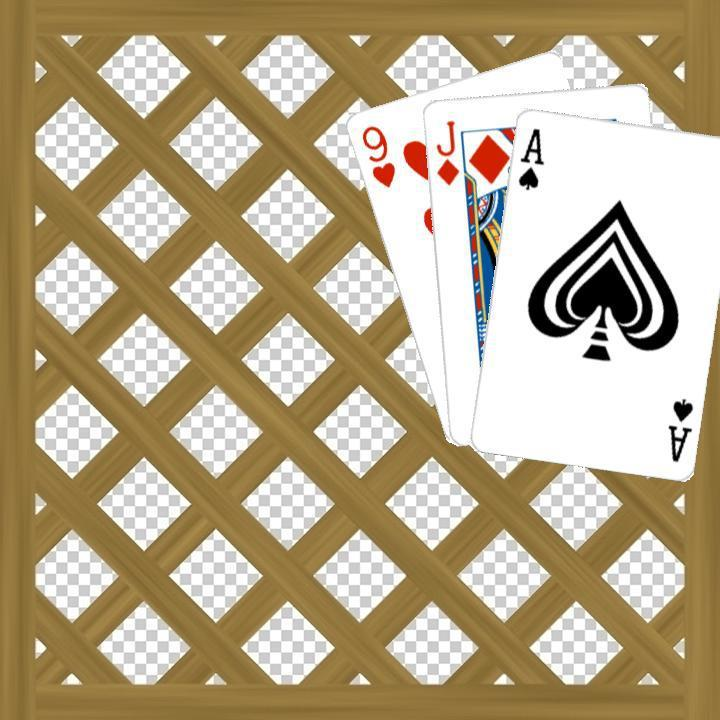9: (356, 120, 397, 190)
A: (663, 393, 695, 464), (513, 123, 546, 191)
J: (431, 116, 461, 188)
